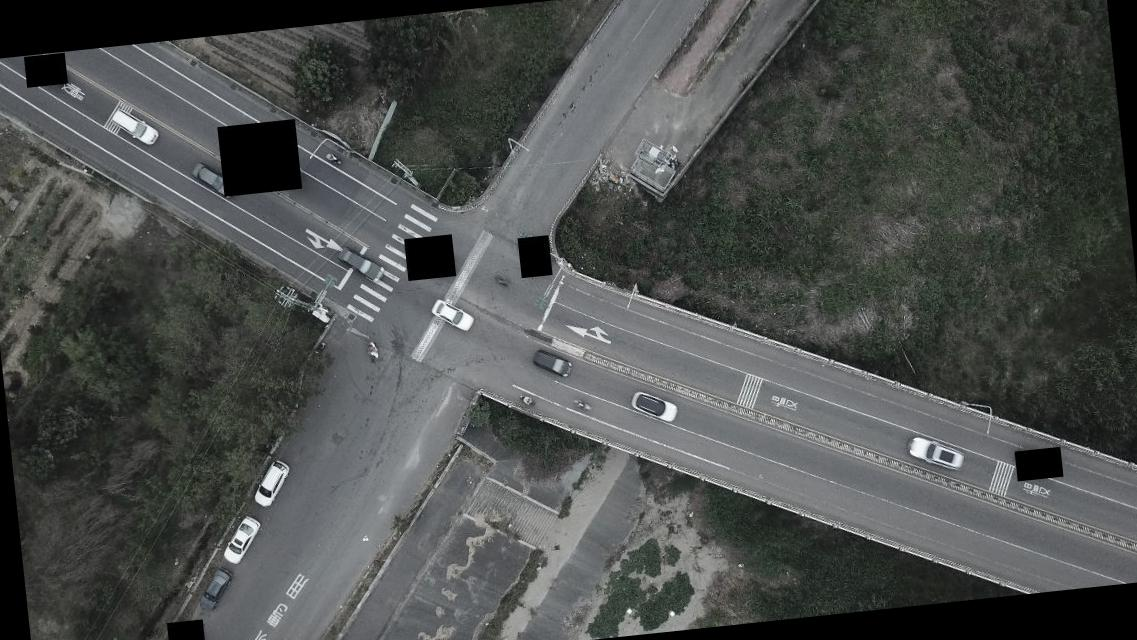vehicle: (905, 430, 967, 474), (248, 457, 295, 509), (218, 514, 264, 564), (108, 106, 160, 149), (190, 160, 238, 202), (336, 244, 384, 284), (629, 386, 678, 425), (196, 566, 235, 611), (430, 296, 474, 335), (529, 345, 574, 381)
